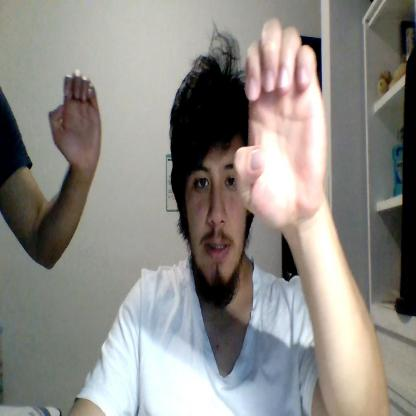E: (233, 19, 326, 226), (48, 70, 102, 172)
